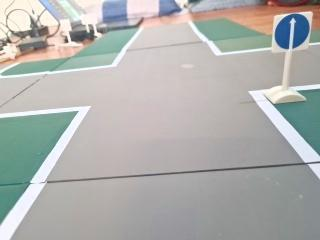straight: (269, 10, 316, 55)
